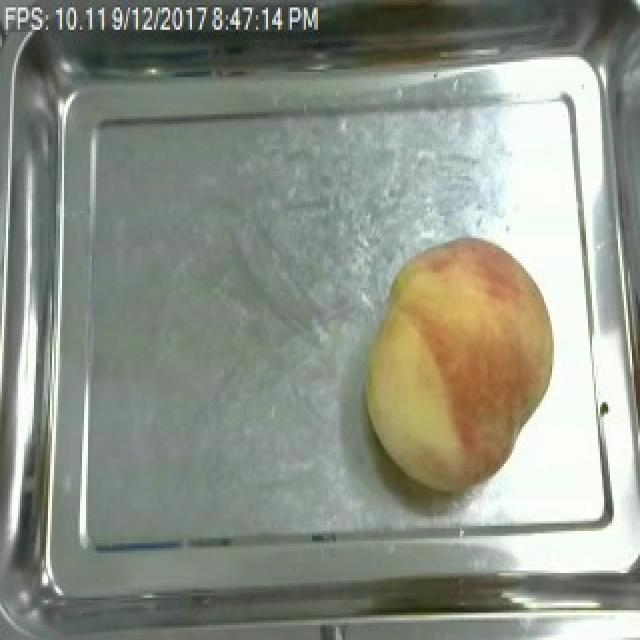Fruit: (356, 231, 566, 496)
